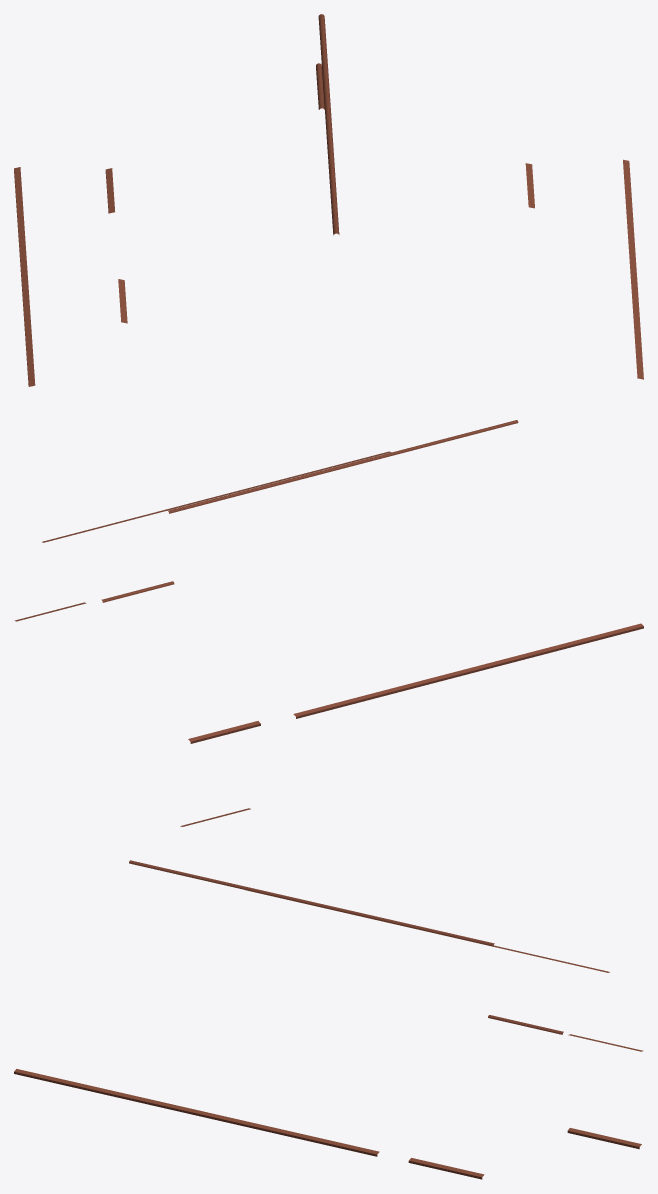
The picture shows the model from 3 angles, top to bottom: view 1: azimuth 30°, elevation 25°; view 2: azimuth 150°, elevation 25°; view 3: azimuth 270°, elevation 25°; orthographic projection. The views are drawn at different scales.
Parts seen in each view (by area): view 1: detail; view 2: detail; view 3: detail.
Boxes of the visible parts, x1=… form: detail: x1=14, y1=14, x2=643, y2=386; detail: x1=14, y1=420, x2=643, y2=826; detail: x1=14, y1=860, x2=643, y2=1179.
Bounding box in the file's own units: 38.74 × 16.91 × 38.85.
